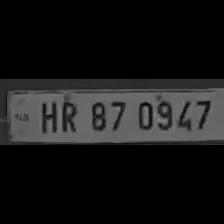0: (130, 97, 154, 130)
4: (174, 96, 192, 132)
7: (106, 97, 128, 132), (191, 97, 211, 131)
8: (84, 97, 108, 132)
9: (154, 98, 174, 132)
H: (36, 98, 58, 134)
R: (56, 96, 79, 134)
